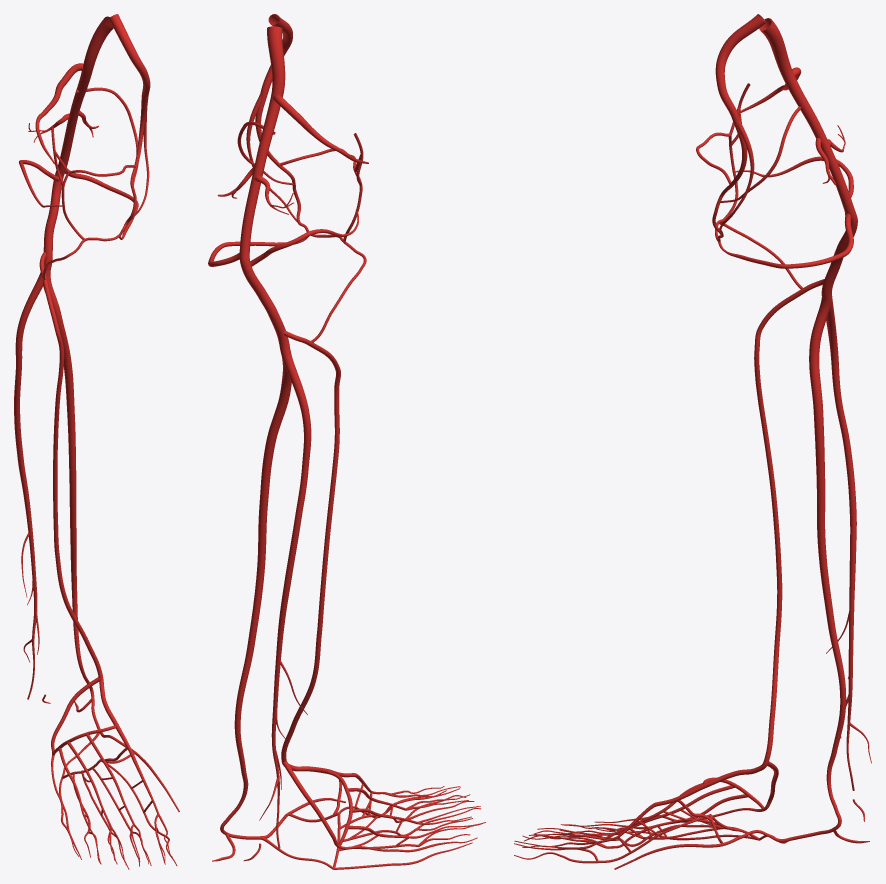
The model's file is circulatorio-popliteal-artery-r.glb.
3 views of the same model, side by side, from view 1: azimuth 30°, elevation 25°; view 2: azimuth 150°, elevation 25°; view 3: azimuth 270°, elevation 25° (orthographic). The views are drawn at different scales.
Visible parts, largest first — view 1: Posterior tibial artery.r, Fibular artery.r, Popliteal artery.r, Anterior tibial artery.r, Superior medial genicular artery.r, Patellar anastomosis.r, Dorsal metatarsal arteries.r, Dorsal digital arteries of foot.r, Proper plantar digital arteries.r, Superior lateral genicular artery.r, Plantar metatarsal arteries.r, Inferior medial genicular artery.r (+3 smaller); view 2: Posterior tibial artery.r, Popliteal artery.r, Fibular artery.r, Anterior tibial artery.r, Superior medial genicular artery.r, Patellar anastomosis.r, Proper plantar digital arteries.r, Dorsal digital arteries of foot.r, Dorsal metatarsal arteries.r, Superior lateral genicular artery.r, Inferior lateral genicular artery.r; view 3: Posterior tibial artery.r, Fibular artery.r, Popliteal artery.r, Anterior tibial artery.r, Superior medial genicular artery.r, Patellar anastomosis.r, Proper plantar digital arteries.r, Dorsal digital arteries of foot.r, Dorsal metatarsal arteries.r, Inferior medial genicular artery.r, Plantar metatarsal arteries.r.
Boxes of the visible parts, box(x1,y1,x2,y2) form: Posterior tibial artery.r: box(43, 270, 99, 728); Fibular artery.r: box(14, 272, 42, 699); Popliteal artery.r: box(43, 16, 113, 270); Anterior tibial artery.r: box(39, 252, 103, 678); Superior medial genicular artery.r: box(76, 14, 150, 222); Patellar anastomosis.r: box(42, 127, 137, 280); Dorsal metatarsal arteries.r: box(58, 733, 158, 827); Dorsal digital arteries of foot.r: box(51, 755, 172, 865); Proper plantar digital arteries.r: box(59, 777, 177, 869); Superior lateral genicular artery.r: box(35, 63, 83, 164); Plantar metatarsal arteries.r: box(72, 759, 143, 816); Inferior medial genicular artery.r: box(64, 168, 138, 238); Posterior tibial artery.r: box(220, 348, 291, 839); Popliteal artery.r: box(239, 26, 289, 349); Fibular artery.r: box(259, 348, 311, 848); Anterior tibial artery.r: box(281, 331, 340, 762); Superior medial genicular artery.r: box(237, 14, 297, 222); Patellar anastomosis.r: box(278, 133, 366, 342); Proper plantar digital arteries.r: box(333, 788, 485, 869); Dorsal digital arteries of foot.r: box(339, 786, 480, 852); Dorsal metatarsal arteries.r: box(348, 773, 417, 838); Superior lateral genicular artery.r: box(273, 94, 368, 163); Inferior lateral genicular artery.r: box(250, 210, 358, 266); Posterior tibial artery.r: box(792, 297, 846, 840); Fibular artery.r: box(824, 297, 871, 790); Popliteal artery.r: box(759, 18, 857, 300); Anterior tibial artery.r: box(754, 279, 824, 763); Superior medial genicular artery.r: box(715, 14, 801, 236); Patellar anastomosis.r: box(696, 83, 802, 289); Proper plantar digital arteries.r: box(514, 824, 757, 863); Dorsal digital arteries of foot.r: box(514, 808, 763, 849); Dorsal metatarsal arteries.r: box(598, 783, 748, 843); Inferior medial genicular artery.r: box(725, 213, 853, 268); Plantar metatarsal arteries.r: box(631, 814, 739, 853).
Size of the model in its own units: 0.1101 by 0.5617 by 0.2086.
